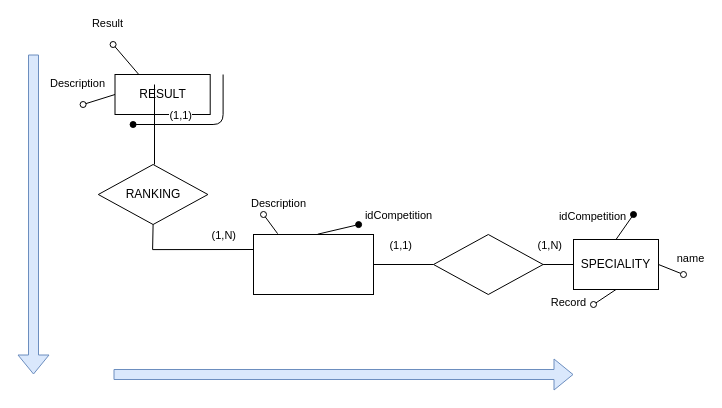
The diagram is 722 pixels wide and 408 high, and some of its shapes have lost their labels. The centre of each missing label's shape, as x and y in pixels:
COMPETITION: point (313, 264)
COMPTYPE: point (487, 264)
